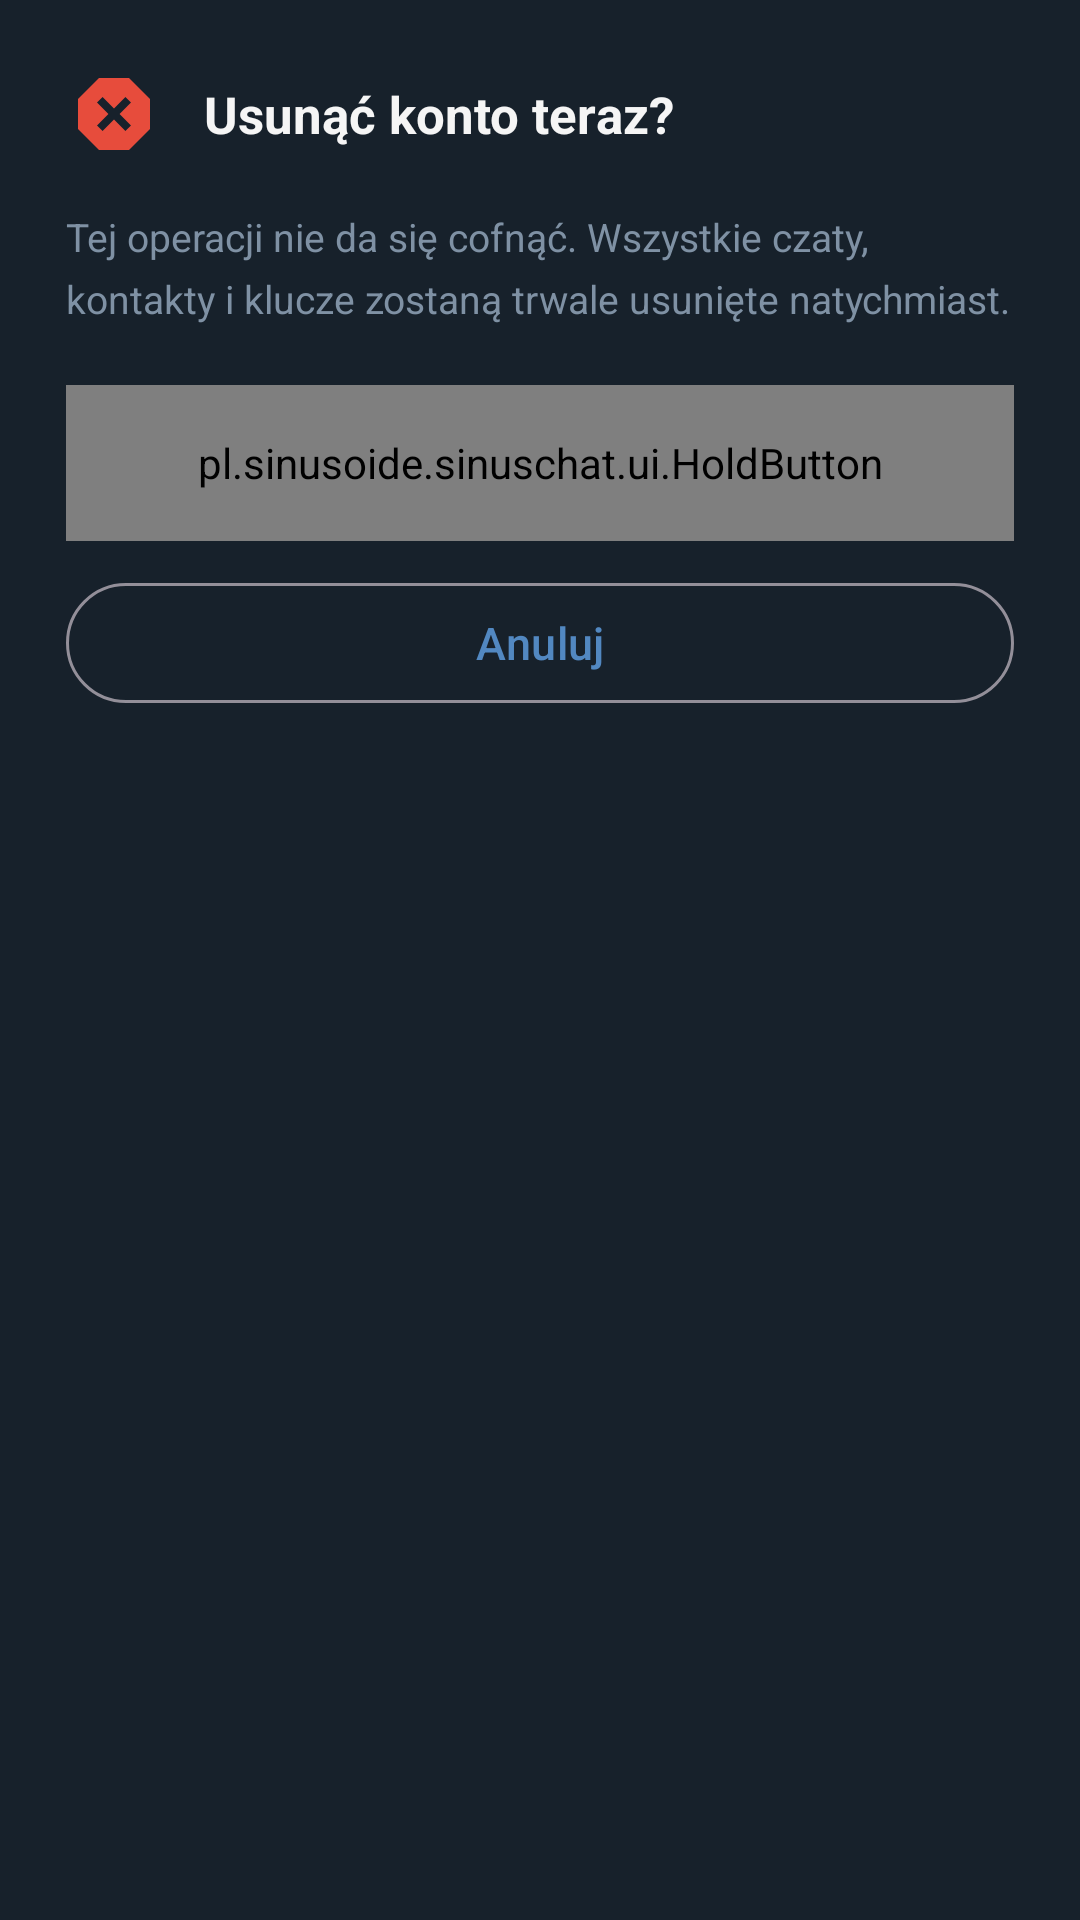

Locate icon controls on the screen. Image size 1080 x 1920, boxes as (left=x1, top=y1, right=x2, bottom=y2).
danger: (left=78, top=78, right=150, bottom=150)
